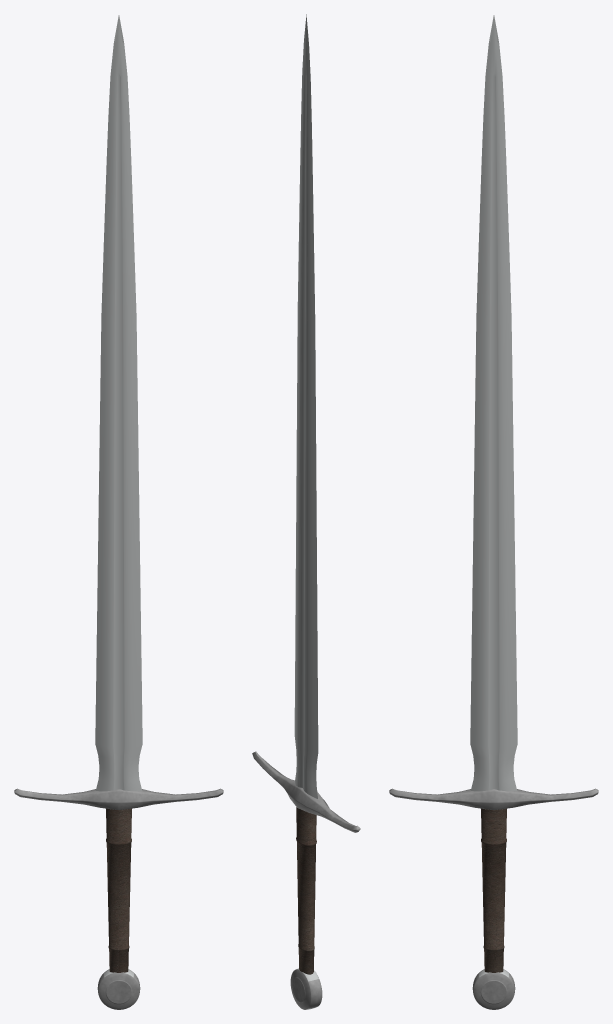
The model's file is longsword.gltf.
3 views of the same model, side by side, from view 1: azimuth 90°, elevation 25°; view 2: azimuth 210°, elevation 25°; view 3: azimuth 270°, elevation 25° (orthographic).
Visible parts, largest first — view 1: Weapon; view 2: Weapon; view 3: Weapon.
Part boxes in pixels (box(x1,y1,x2,y2)): Weapon: box(14, 15, 223, 1009); Weapon: box(252, 14, 360, 1009); Weapon: box(389, 15, 598, 1009).
Bounding box in the file's own units: 0.0283 × 1.18 × 0.2253.
1 material, 1 textured.
